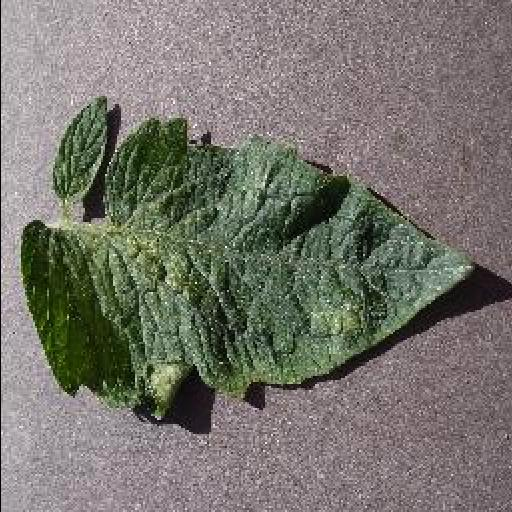disease_tomato: (22, 120, 478, 416)
